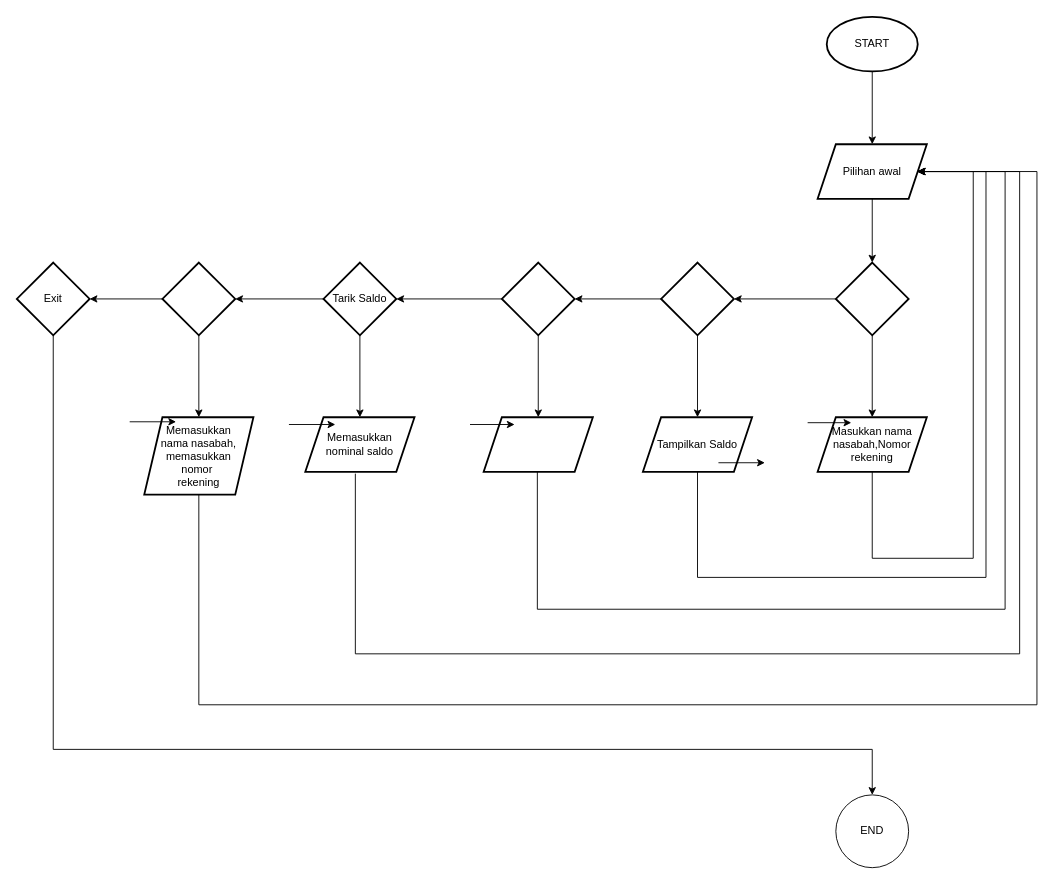
Some shapes in this 1060 by 884 pixel diagram are drawn without their labels. Here are the shapes that lost their labels. From the top down, the box of each, then its label:
(161, 261, 236, 336): Hapus Akun
(500, 261, 575, 336): Isi Saldo
(660, 261, 734, 336): Cek Saldo
(834, 261, 909, 336): Membuat rekening
(482, 416, 593, 472): Memasukkan nominal setoran
